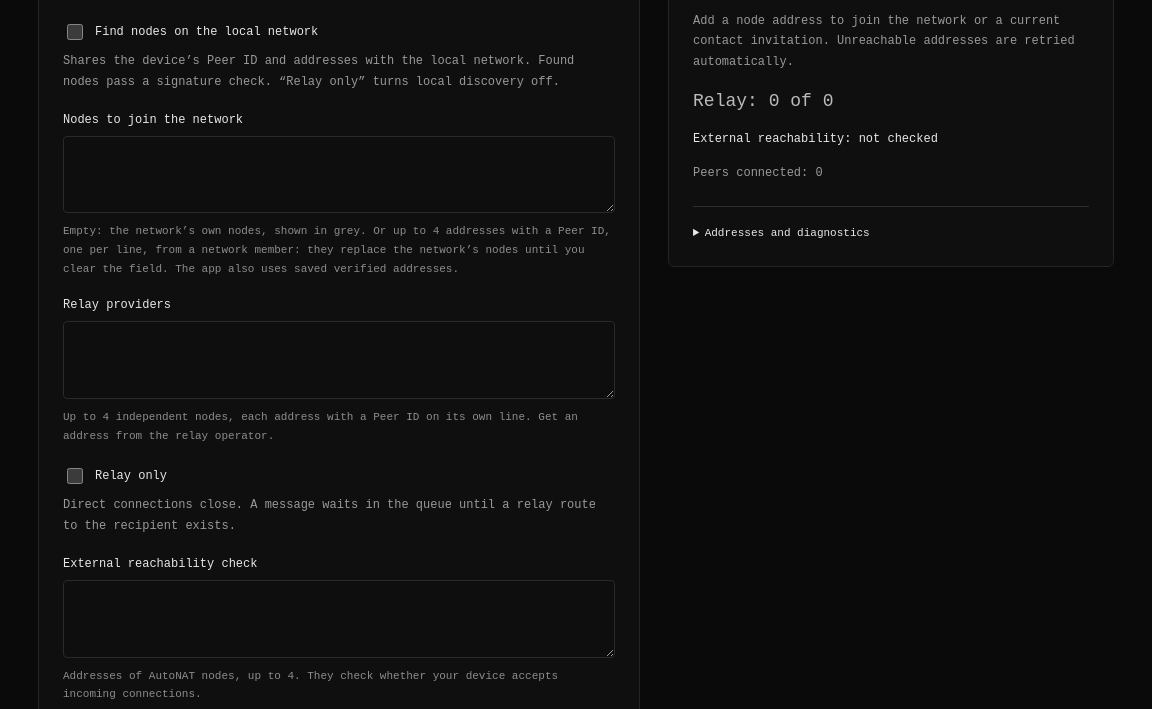
Scenario: network preferences for the owner › retains the exact save intent after a lost reply even if status reports a newer revision
(page scrolled)
Type "/ip4/203.0.113.20/tcp/4001/p2p/12D3KooWJm4jMSpfp8p5bVfpqzW2TjzWEdY9xw8rGzBz5Xq6f6Lo" into the text box labelled "Relay providers" at [339, 360], box [63,321,615,399]
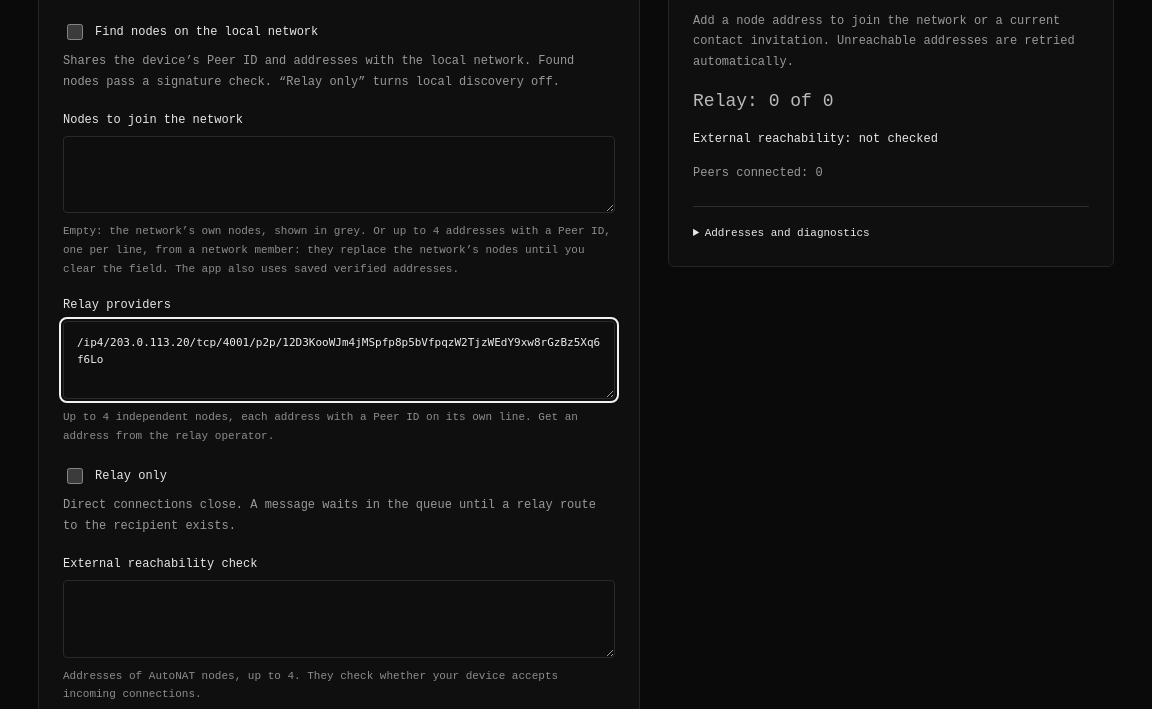
Click the checkbox labelled "Relay only" at [75, 476], box [67,468,83,484]
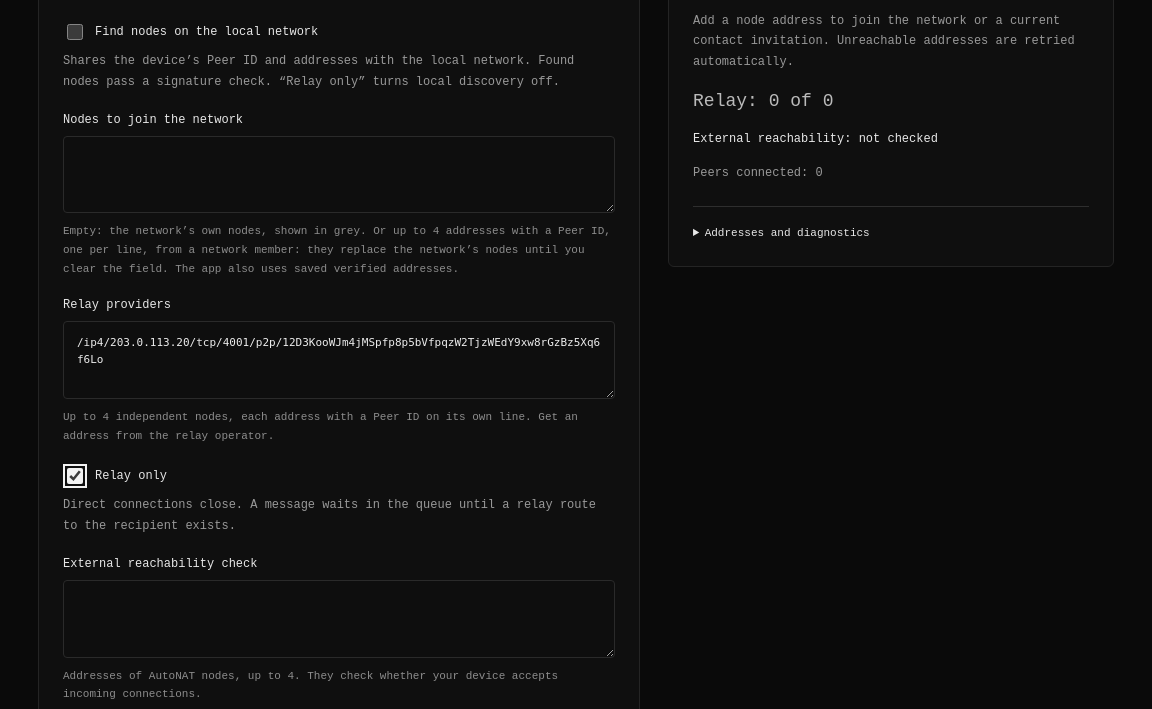
Type "/ip4/203.0.113.30/udp/4001/quic-v1/p2p/12D3KooWNWXCuxZww8PKPi3QKNtSByLMyoaQZuWZzkpyWT1LXomb" into the text box labelled "External reachability check" at [339, 619], box [63,580,615,658]
(page scrolled)
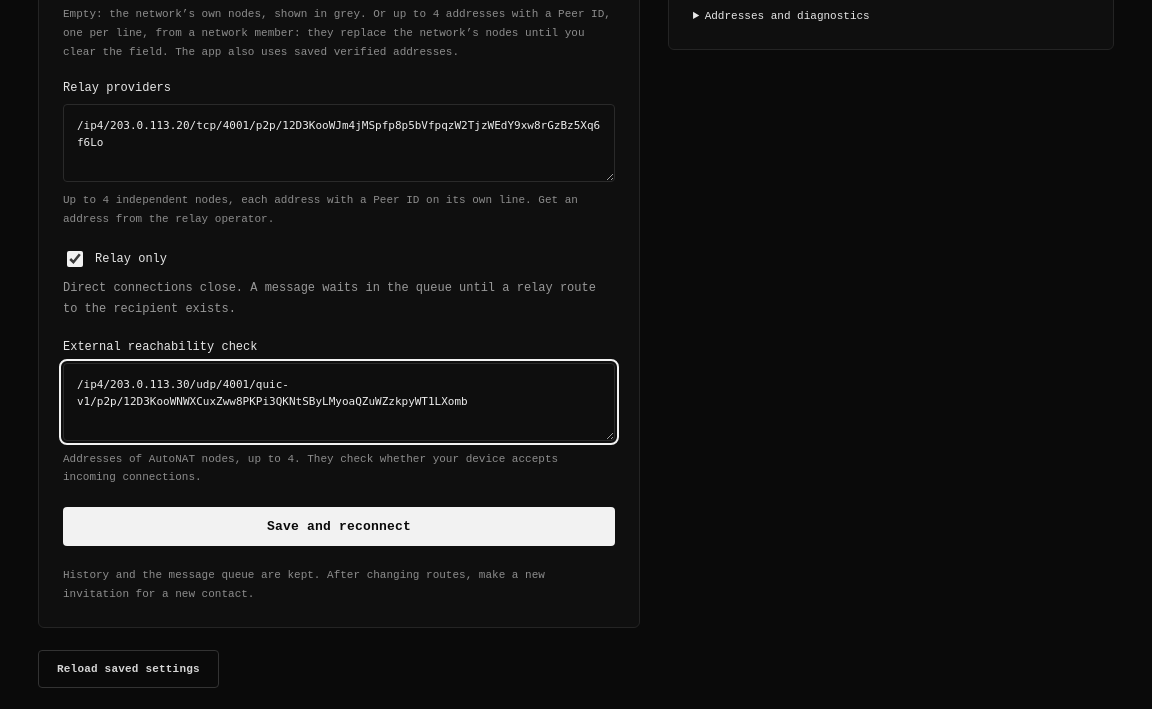
Click the button "Save and reconnect" at [339, 527], box [63,507,615,546]
(page scrolled)
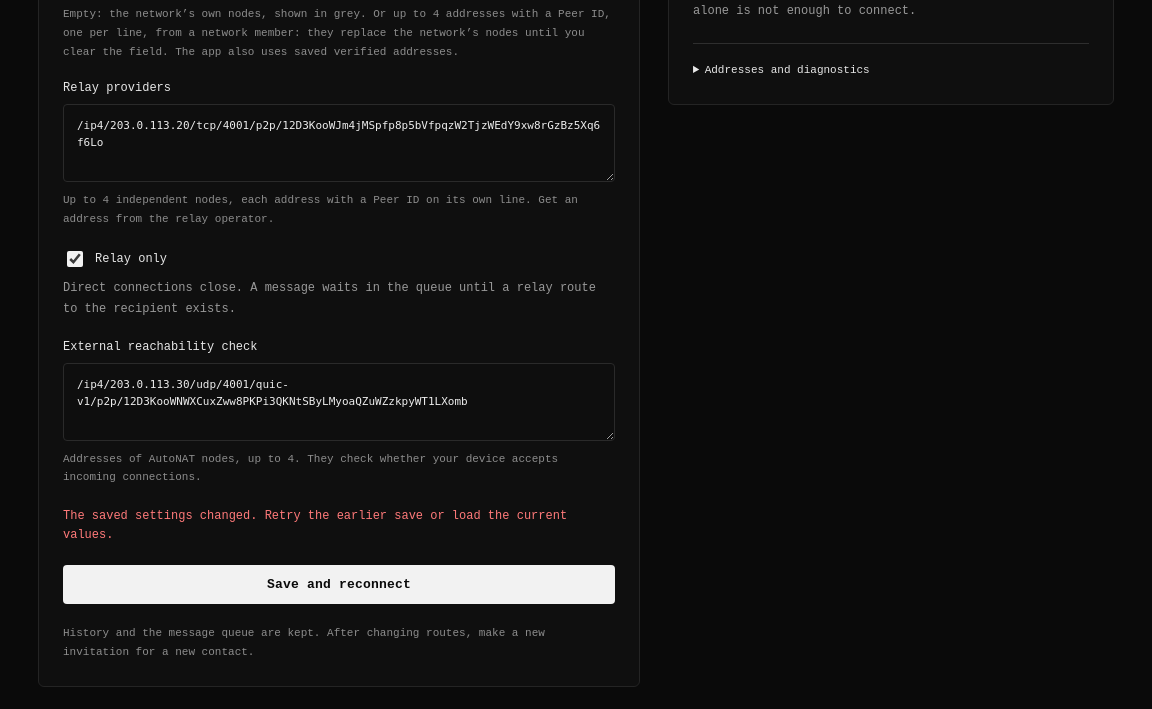
Check: the text "The saved settings changed. Retry the earlier save or load the current values." is shown, box [63,507,615,546]
Click the button "Save and reconnect" at [339, 585], box [63,566,615,604]
(page scrolled)
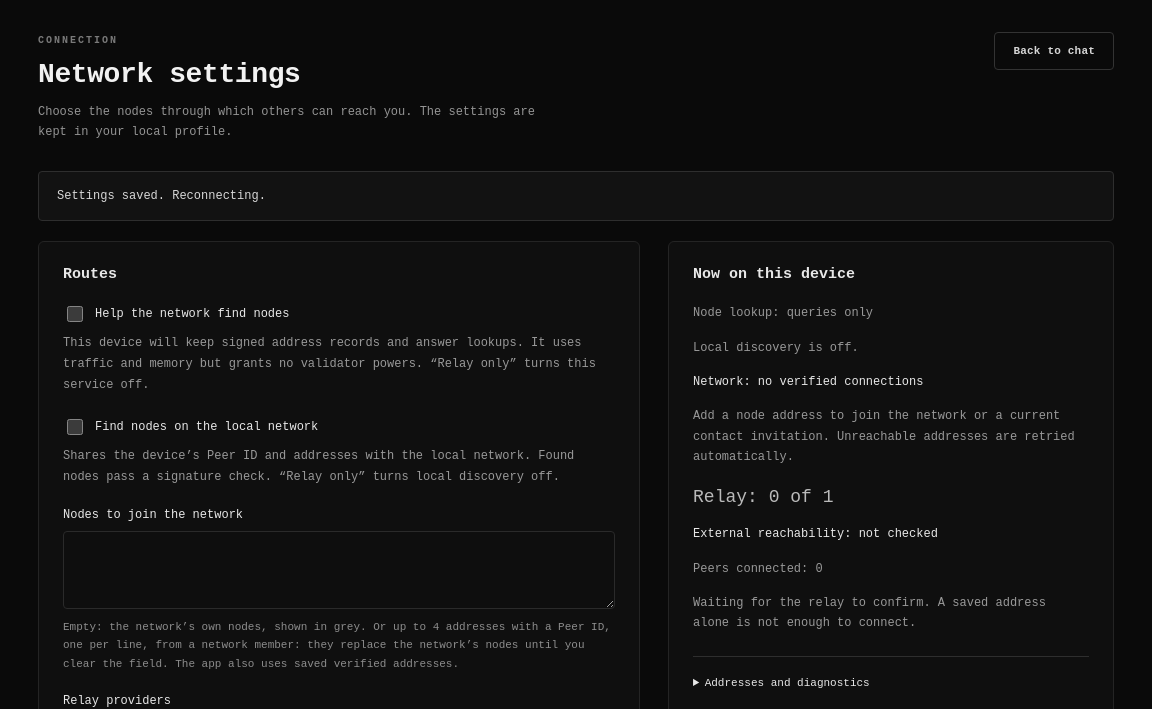
Check: the message "Settings saved. Reconnecting." is shown, box [38,171,1114,221]
